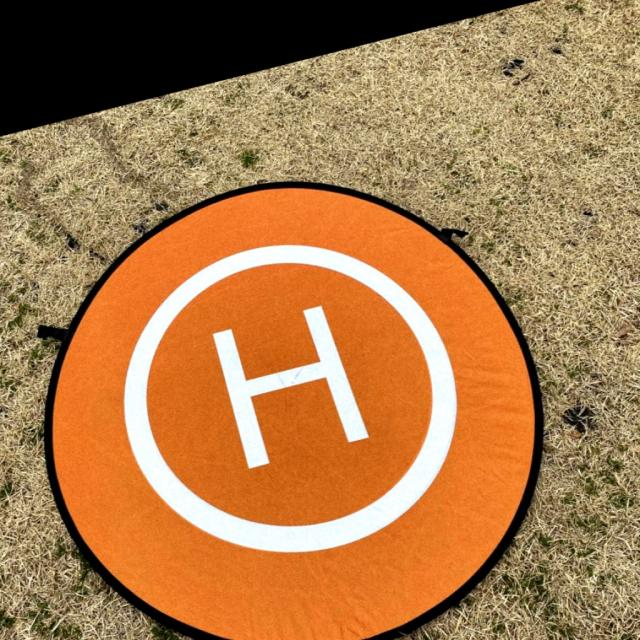helipad: (119, 237, 462, 559)
